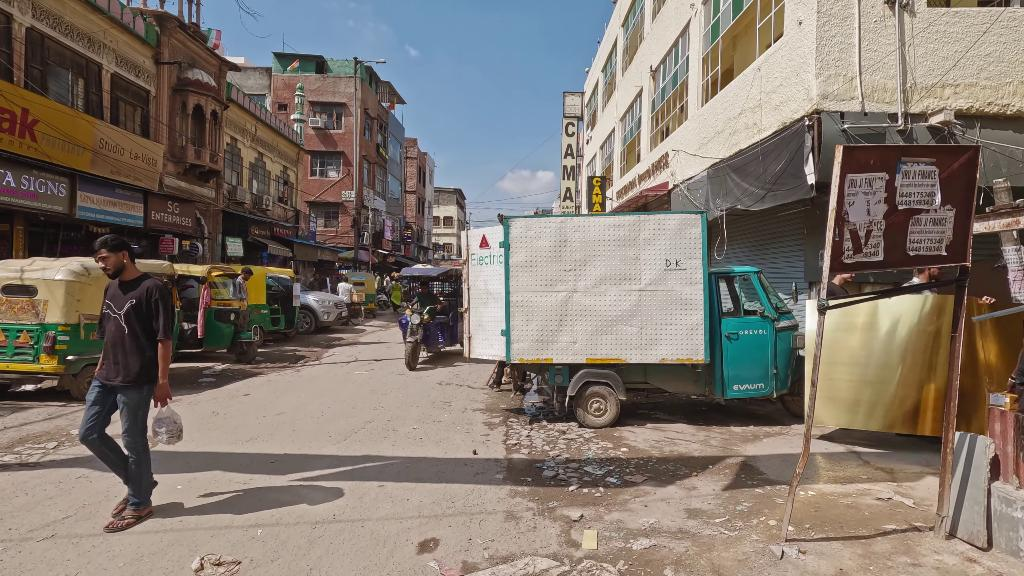garbage: (149, 405, 184, 445)
